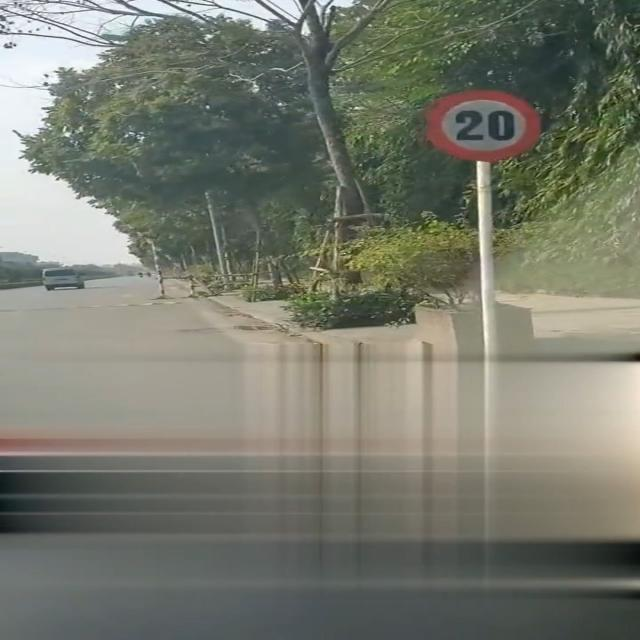127-toc-do-toi-da-20: (426, 91, 540, 163)
